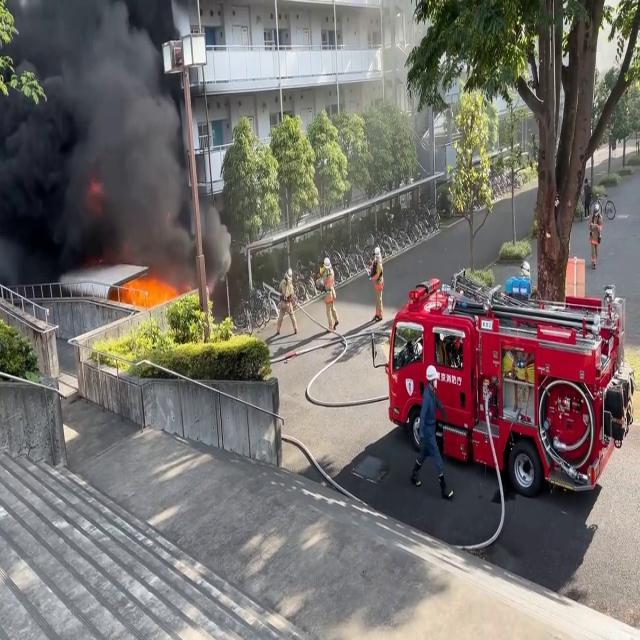Fire: (116, 271, 202, 311)
Smoke: (0, 0, 225, 285)
